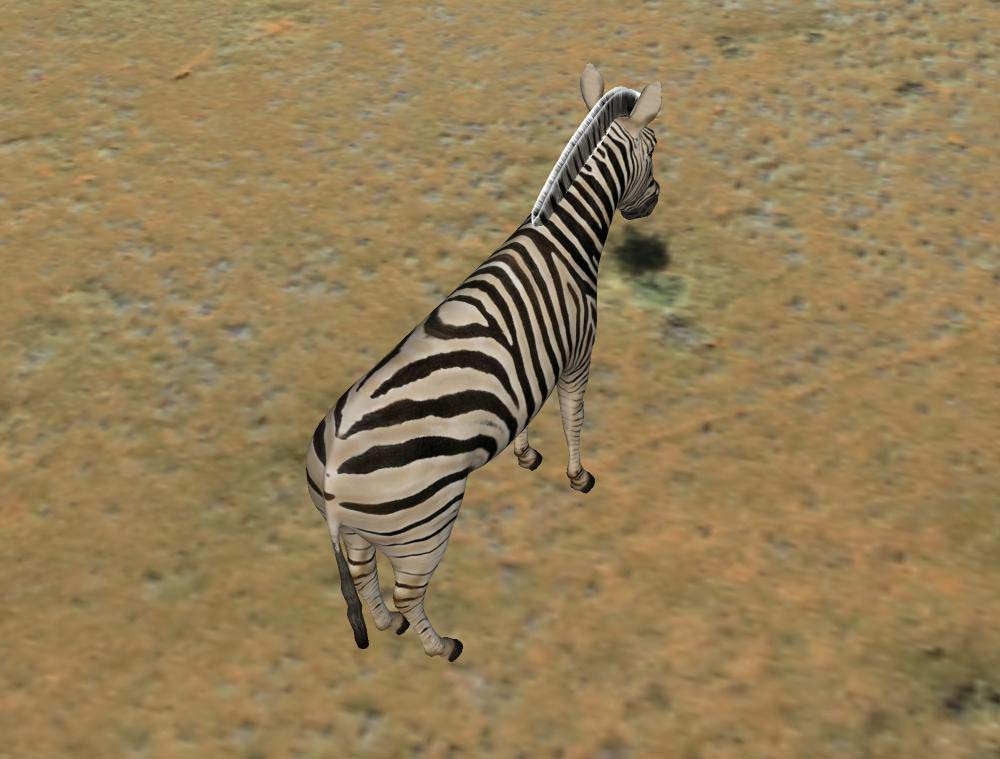zebra: (304, 61, 663, 672)
